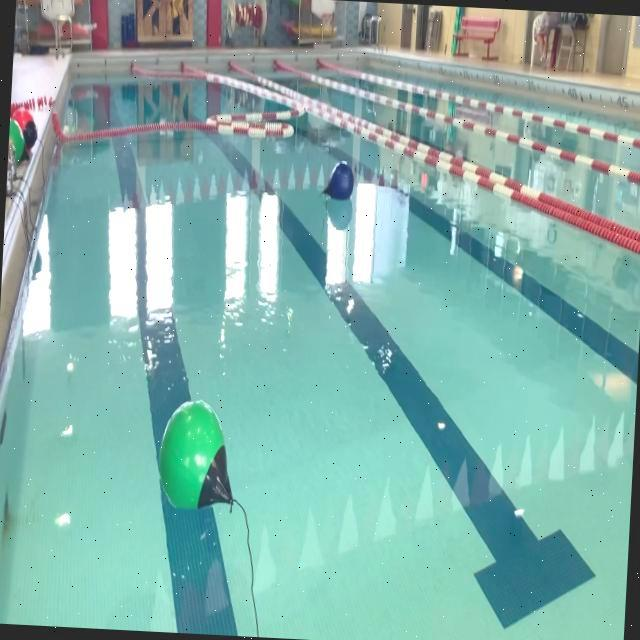buoy: (153, 396, 240, 514), (320, 159, 356, 201), (11, 109, 38, 152), (8, 118, 27, 166)
